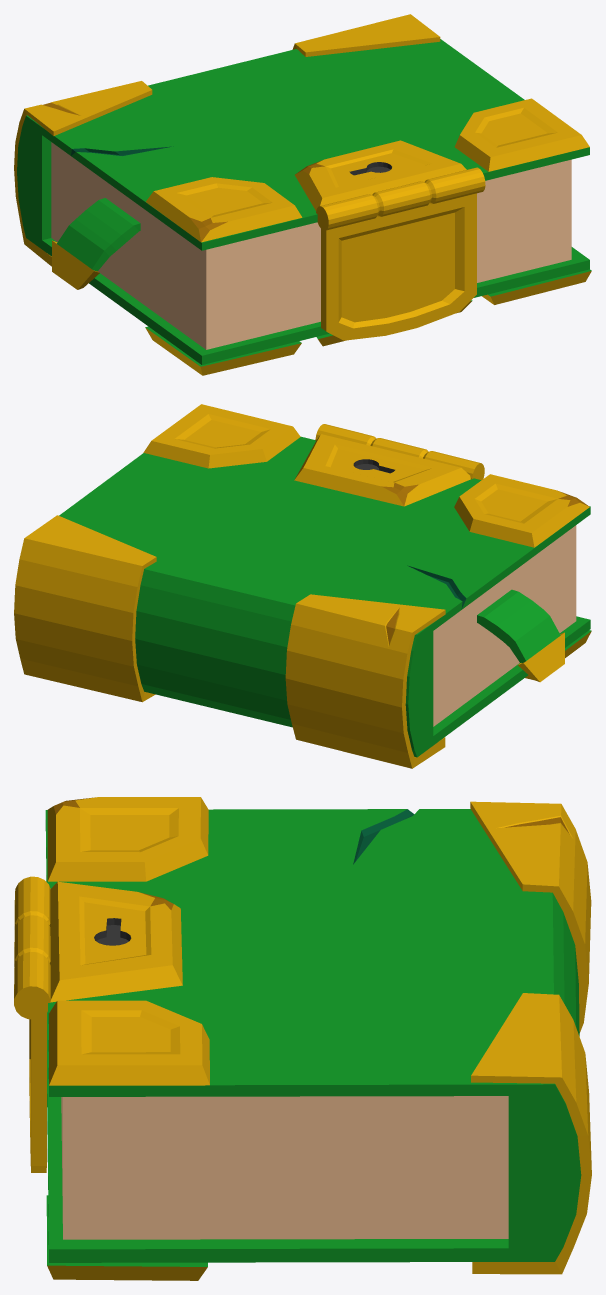
The model's file is Book_Bound_Green.fbx.
3 renders of one model, top to bottom at view 1: azimuth 30°, elevation 25°; view 2: azimuth 150°, elevation 25°; view 3: azimuth 270°, elevation 25°, orthographic. The views are drawn at different scales.
Visible parts, largest first — view 1: Book_Bound_Purple; view 2: Book_Bound_Purple; view 3: Book_Bound_Purple.
Part boxes in pixels (box(x1,y1,x2,y2)): Book_Bound_Purple: box(14, 14, 591, 375); Book_Bound_Purple: box(14, 404, 591, 768); Book_Bound_Purple: box(14, 797, 591, 1280).
Size of the model in its own units: 54.29 by 17.47 by 42.53.
